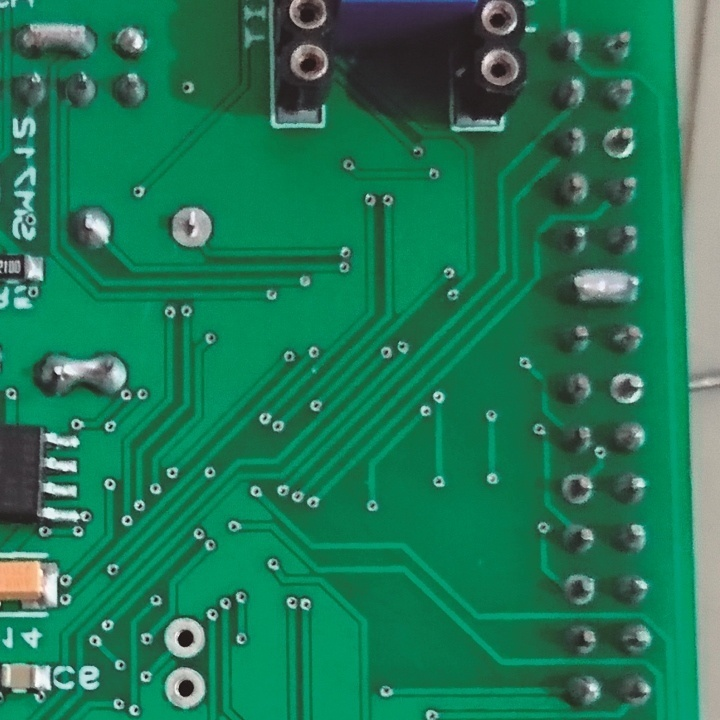F: (159, 664, 216, 715), (167, 205, 216, 252), (162, 613, 208, 659), (601, 122, 644, 164), (607, 369, 648, 408), (562, 568, 598, 608), (561, 470, 595, 506)
P: (31, 348, 132, 399), (15, 17, 105, 63), (561, 263, 645, 309)
